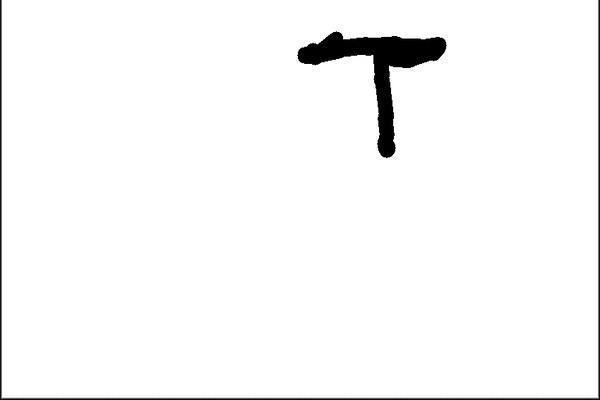T: (299, 18, 462, 161)
